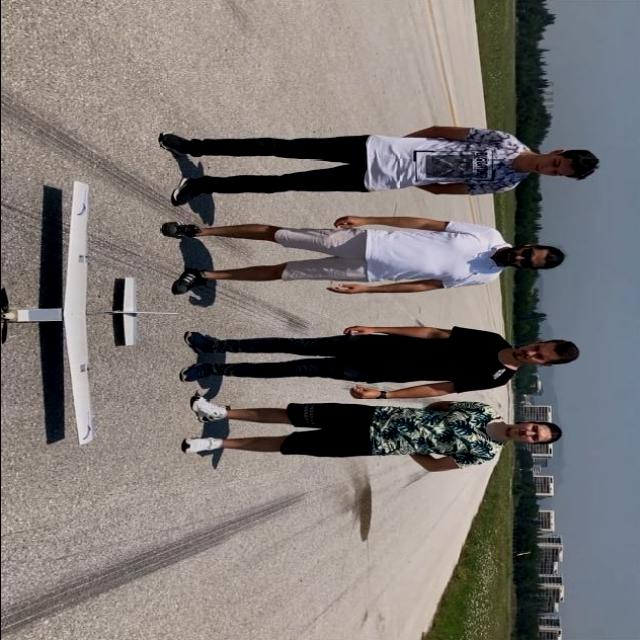plane: (0, 181, 189, 448)
